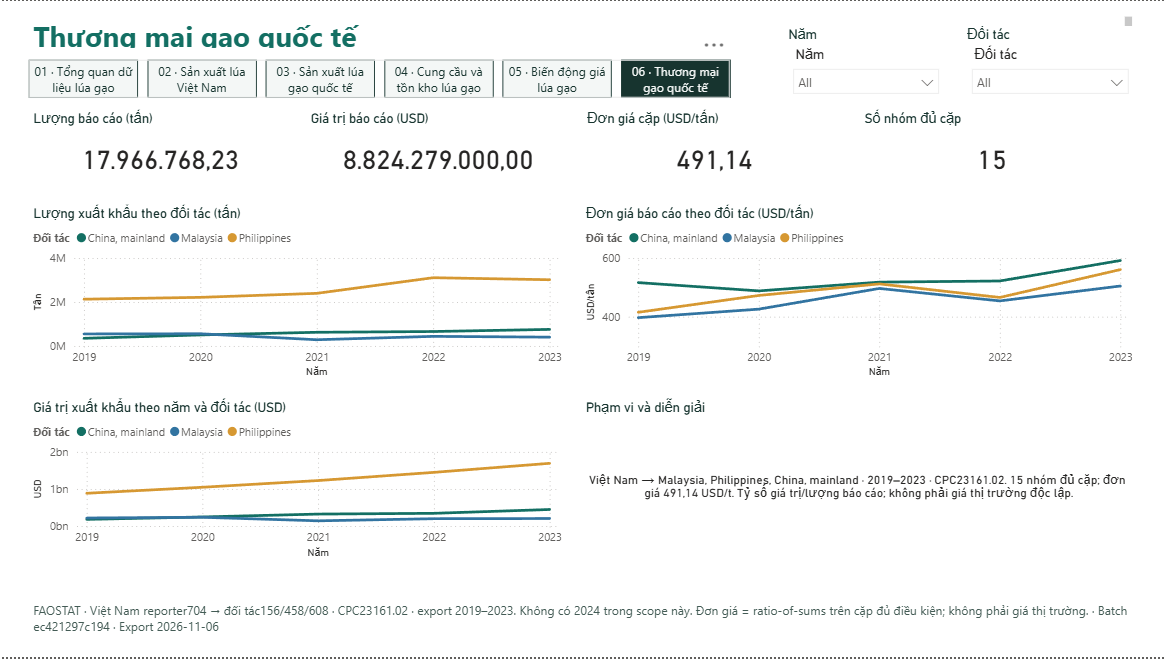

What the dashboard file says about the page in this screenshot:
{"tool":"powerbi","page":{"name":"06 · Thương mại gạo quốc tế","canvas":[1280,720],"ordinal":5},"visuals":[{"type":"textbox","box":[32,12,1216,44],"z":1},{"type":"pageNavigator","box":[32,64,770,42],"z":2},{"type":"card","title":"Lượng báo cáo (tấn)","fields":{"Values":["Overview.Trade Quantity Display"]},"box":[32,120,290,90],"z":3},{"type":"card","title":"Giá trị báo cáo (USD)","fields":{"Values":["Overview.Trade Value Display"]},"box":[336,120,290,90],"z":4},{"type":"card","title":"Đơn giá cặp (USD/tấn)","fields":{"Values":["Overview.Trade Unit Value Display"]},"box":[640,120,290,90],"z":5},{"type":"card","title":"Số nhóm đủ cặp","fields":{"Values":["Overview.Trade Paired Groups Display"]},"box":[944,120,290,90],"z":6},{"type":"slicer","title":"Năm","fields":{"Values":["CalendarYear.Year"]},"box":[860,28,180,88],"z":7},{"type":"slicer","title":"Đối tác","fields":{"Values":["Trade.partner_name"]},"box":[1056,28,192,88],"z":8},{"type":"lineChart","title":"Lượng xuất khẩu theo đối tác (tấn)","fields":{"Category":["CalendarYear.Year"],"Series":["Trade.partner_name"],"Y":["Overview.Trade Quantity"]},"box":[32,224,590,195],"z":9},{"type":"lineChart","title":"Đơn giá báo cáo theo đối tác (USD/tấn)","fields":{"Category":["CalendarYear.Year"],"Series":["Trade.partner_name"],"Y":["Overview.Trade Unit Value"]},"box":[638,224,610,195],"z":10},{"type":"lineChart","title":"Giá trị xuất khẩu theo năm và đối tác (USD)","fields":{"Category":["CalendarYear.Year"],"Series":["Trade.partner_name"],"Y":["Overview.Trade Value"]},"box":[32,436,590,180],"z":11},{"type":"card","title":"Phạm vi và diễn giải","fields":{"Values":["Overview.Trade Insight"]},"box":[638,436,610,180],"z":12},{"type":"textbox","box":[32,654,1216,56],"z":90}]}

Visuals, with their boxes in screenshot pixels (x1, y1, x2, y2), scaled from the page's 1280x720 canvas onto the 1165x660 screenshot:
textbox: 29,11,1136,51
pageNavigator: 29,59,730,97
"Lượng báo cáo (tấn)" card: 29,110,293,192
"Giá trị báo cáo (USD)" card: 306,110,570,192
"Đơn giá cặp (USD/tấn)" card: 582,110,846,192
"Số nhóm đủ cặp" card: 859,110,1123,192
"Năm" slicer: 783,26,947,106
"Đối tác" slicer: 961,26,1136,106
"Lượng xuất khẩu theo đối tác (tấn)" lineChart: 29,205,566,384
"Đơn giá báo cáo theo đối tác (USD/tấn)" lineChart: 581,205,1136,384
"Giá trị xuất khẩu theo năm và đối tác (USD)" lineChart: 29,400,566,565
"Phạm vi và diễn giải" card: 581,400,1136,565
textbox: 29,600,1136,651
